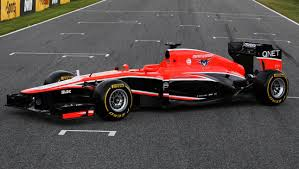FormulaOneCar: (5, 38, 291, 122)
